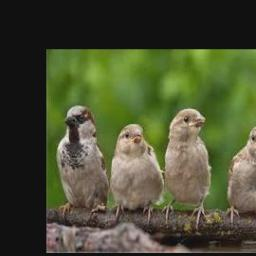Sparrow: (56, 104, 109, 219), (162, 108, 210, 227), (110, 123, 164, 218), (226, 125, 256, 227)
